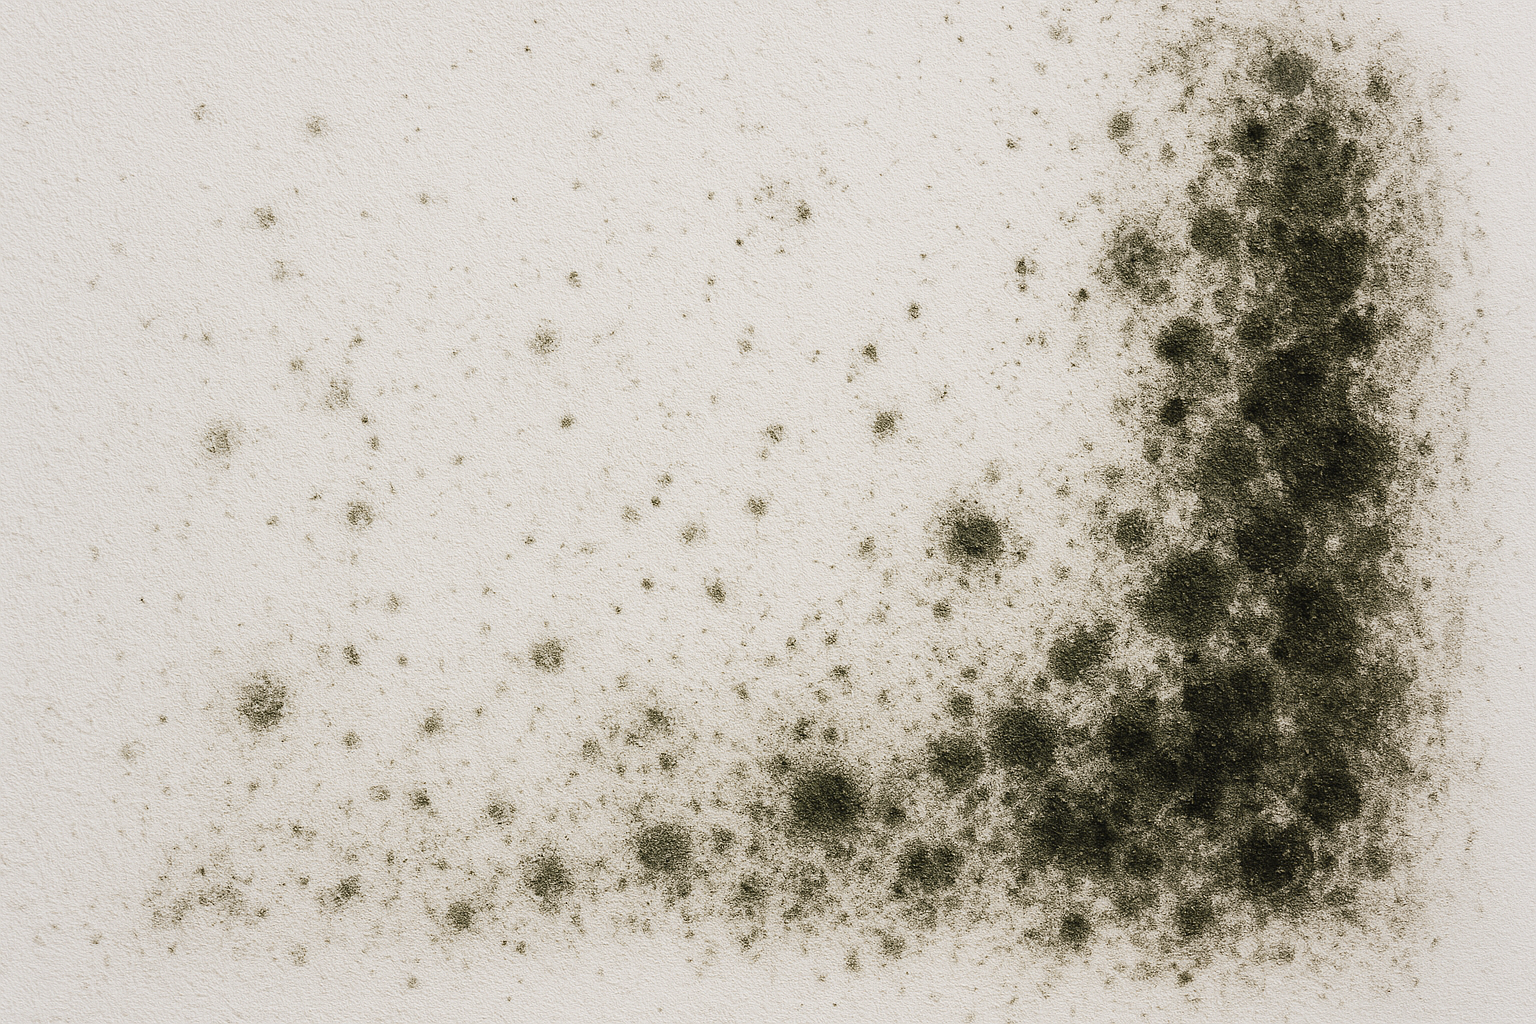schimmel: (1179, 25, 1381, 952), (661, 679, 991, 915), (1013, 601, 1171, 951), (942, 487, 1056, 578), (1112, 142, 1162, 319)
